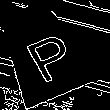P_NW: (12, 20, 76, 81)
